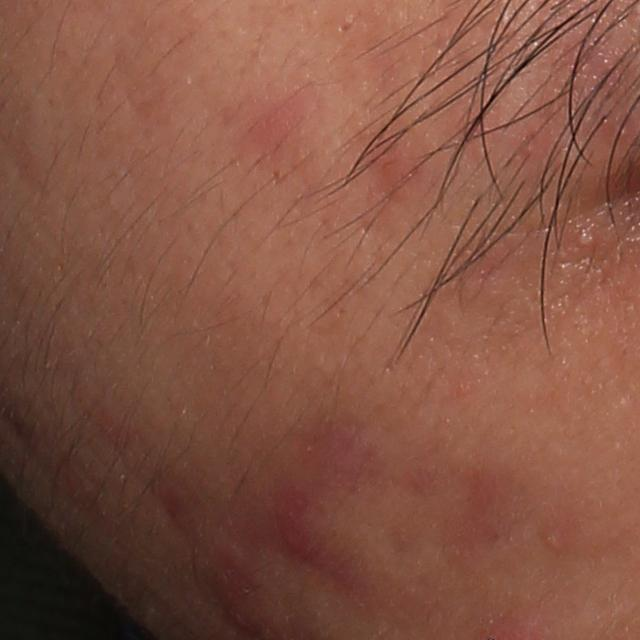pustule: (565, 217, 604, 262)
